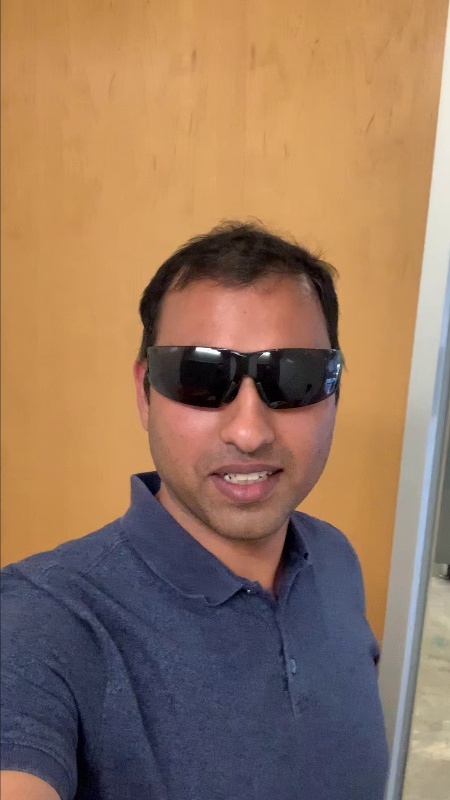glasses: (133, 337, 350, 419)
